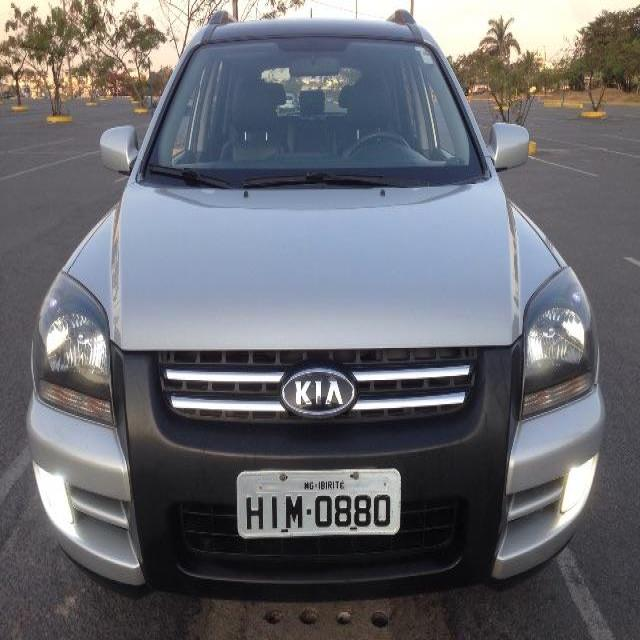Placa: (232, 463, 403, 544)
